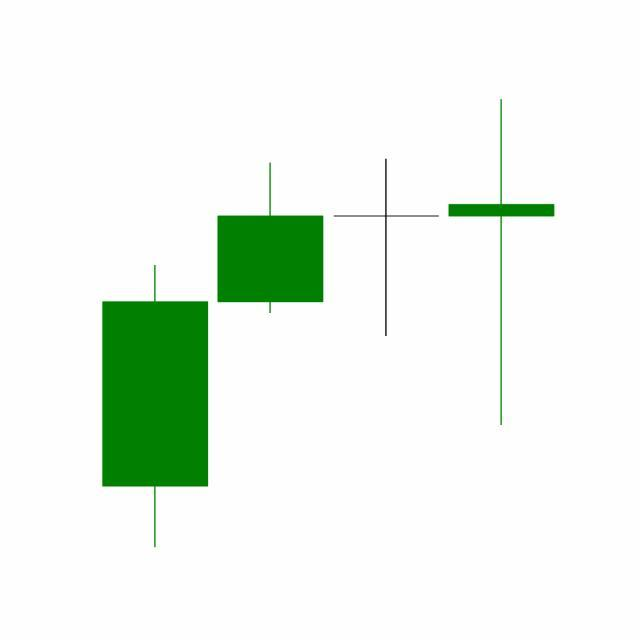Spinning Top: (329, 156, 445, 339)
